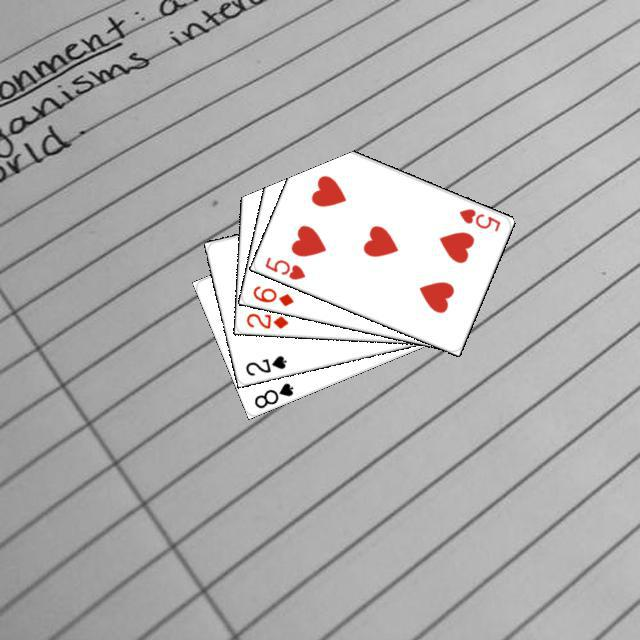2d: (242, 308, 290, 331)
2s: (240, 350, 288, 377)
5h: (260, 252, 307, 282), (454, 204, 502, 233)
6d: (248, 281, 295, 308)
8s: (249, 378, 295, 410)
